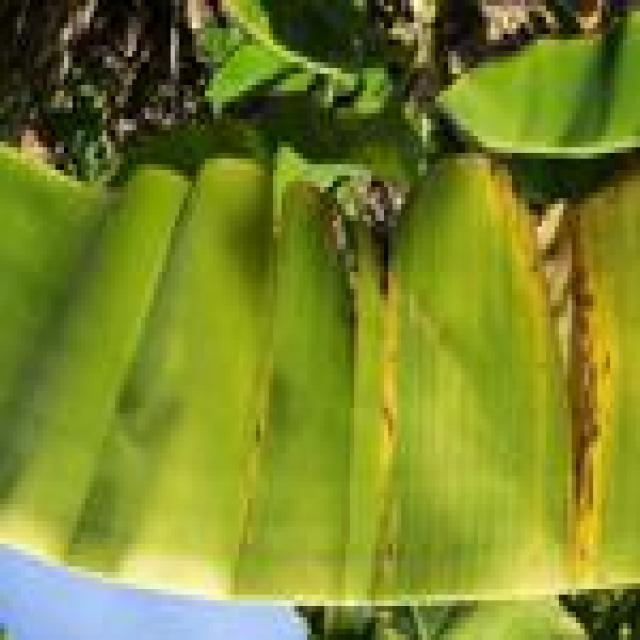Early_rust: (34, 119, 640, 612)
